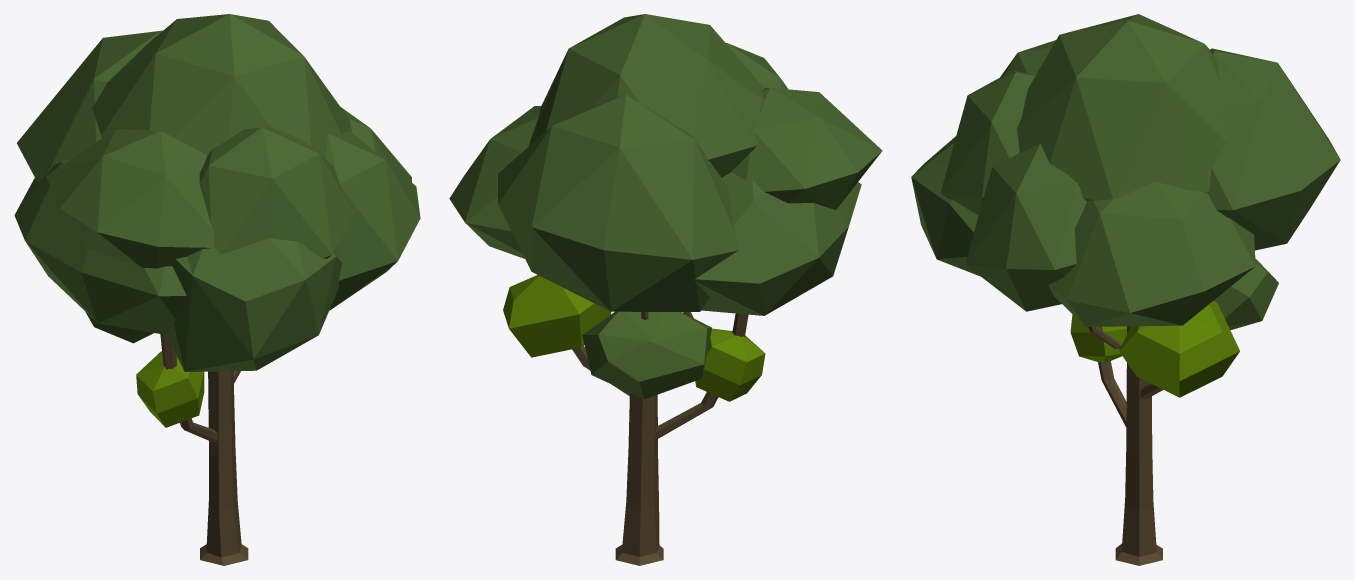
Rendered from LeafTree.fbx.
3 views of the same model, side by side, from view 1: azimuth 30°, elevation 25°; view 2: azimuth 150°, elevation 25°; view 3: azimuth 270°, elevation 25° (orthographic).
Visible parts, largest first — view 1: pSphere13, pSphere11, pSphere14, pSphere15, pSphere8, pSphere9, pSphere16, pCylinder1, pSphere4, pSphere12, pCylinder3, pSphere2; view 2: pSphere16, pSphere13, pSphere8, pSphere14, pSphere2, pCylinder1, pSphere1, pSphere12, pSphere4, pCylinder3, pSphere15; view 3: pSphere13, pSphere12, pSphere16, pSphere9, pSphere15, pSphere1, pCylinder1, pSphere11, pSphere2, pSphere4, pSphere14, pCylinder3.
Boxes of the visible parts, bbox=[...] form: pSphere13: bbox=[92, 14, 351, 158]; pSphere11: bbox=[166, 238, 342, 371]; pSphere14: bbox=[46, 129, 213, 268]; pSphere15: bbox=[199, 126, 354, 258]; pSphere8: bbox=[14, 159, 186, 335]; pSphere9: bbox=[326, 131, 420, 310]; pSphere16: bbox=[17, 30, 162, 182]; pCylinder1: bbox=[200, 371, 248, 565]; pSphere4: bbox=[136, 351, 204, 427]; pSphere12: bbox=[341, 107, 411, 182]; pCylinder3: bbox=[160, 334, 217, 442]; pSphere2: bbox=[85, 312, 153, 343]; pSphere16: bbox=[498, 94, 738, 311]; pSphere13: bbox=[529, 14, 764, 177]; pSphere8: bbox=[693, 172, 861, 315]; pSphere14: bbox=[731, 88, 882, 209]; pSphere2: bbox=[582, 311, 711, 399]; pCylinder1: bbox=[615, 393, 663, 565]; pSphere1: bbox=[503, 275, 611, 357]; pSphere12: bbox=[449, 106, 541, 258]; pSphere4: bbox=[695, 328, 765, 401]; pCylinder3: bbox=[655, 313, 748, 439]; pSphere15: bbox=[726, 43, 787, 89]; pSphere13: bbox=[1017, 14, 1226, 201]; pSphere12: bbox=[1048, 181, 1255, 326]; pSphere16: bbox=[1208, 48, 1340, 250]; pSphere9: bbox=[965, 144, 1086, 311]; pSphere15: bbox=[941, 70, 1035, 215]; pSphere1: bbox=[1119, 301, 1239, 397]; pCylinder1: bbox=[1115, 326, 1162, 565]; pSphere11: bbox=[911, 136, 980, 276]; pSphere2: bbox=[1213, 258, 1278, 330]; pSphere4: bbox=[1070, 314, 1126, 362]; pSphere14: bbox=[1000, 40, 1055, 77]; pCylinder3: bbox=[1098, 361, 1126, 426].
Size of the model in its own units: 18.06 by 24.95 by 18.2.
